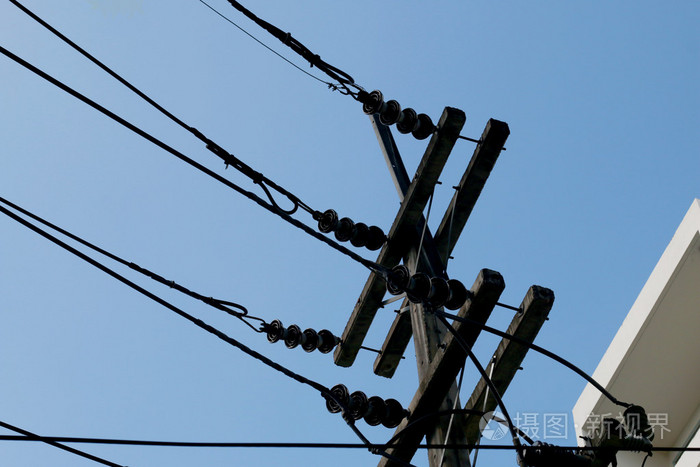insulator: (359, 87, 433, 141), (383, 263, 466, 310), (325, 383, 406, 430), (262, 317, 335, 354), (318, 208, 385, 248)
